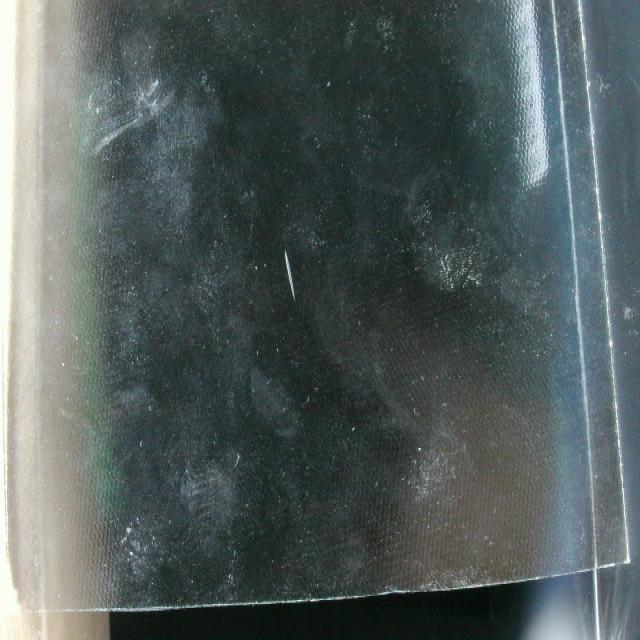edge_chip: (371, 577, 495, 605)
scratch: (275, 233, 304, 317)
